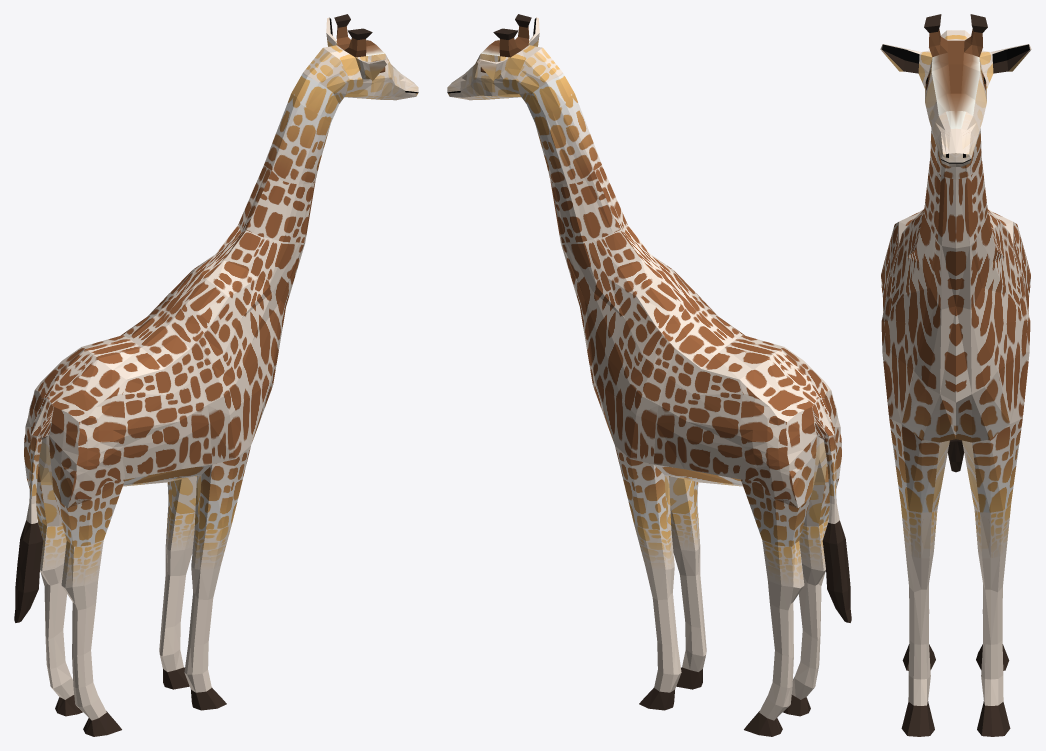
File: giraffe.obj
3 views of the same model, side by side, from view 1: azimuth 30°, elevation 25°; view 2: azimuth 150°, elevation 25°; view 3: azimuth 270°, elevation 25° (orthographic). The views are drawn at different scales.
Visible parts, largest first — view 1: Plane, Plane.003, Plane.001, Plane.002; view 2: Plane, Plane.003, Plane.001, Plane.002; view 3: Plane, Plane.001, Plane.003, Plane.002.
Part boxes in pixels (x1,y1,x2,y2): Plane: (24,254,285,507); Plane.003: (27,446,250,736); Plane.001: (215,14,418,306); Plane.002: (14,398,53,622); Plane: (580,254,841,507); Plane.003: (615,446,838,736); Plane.001: (447,14,650,306); Plane.002: (812,398,851,622); Plane: (881,209,1030,442); Plane.001: (880,14,1031,309); Plane.003: (889,418,1022,736); Plane.002: (947,439,964,472).
Bounding box in the file's own units: 3.44 × 5.19 × 0.8837.
7 materials, 4 textured.
